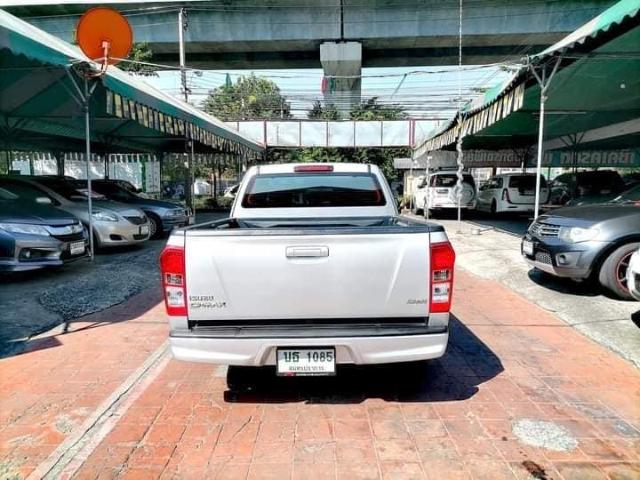pickup-truck: (144, 141, 474, 396)
